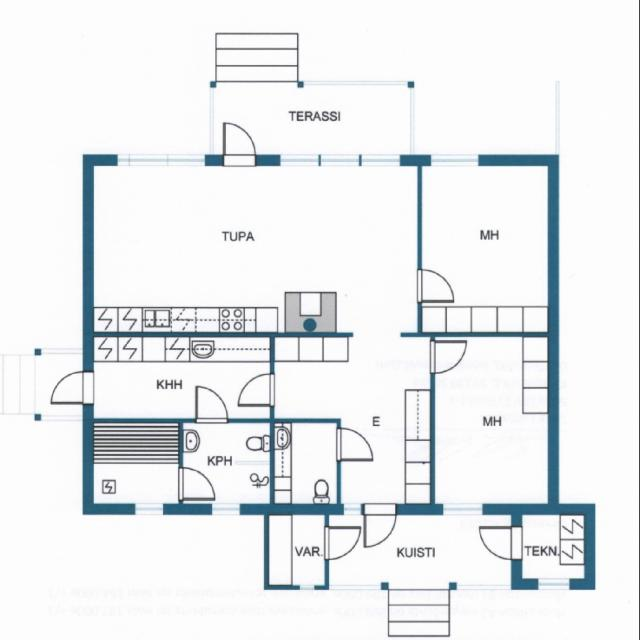door: (364, 502, 397, 547), (223, 122, 256, 166), (479, 527, 522, 560), (323, 527, 362, 560), (52, 373, 94, 403), (238, 373, 276, 406), (336, 428, 374, 461), (417, 269, 454, 301), (197, 385, 228, 422), (431, 342, 466, 373), (178, 469, 214, 499)
